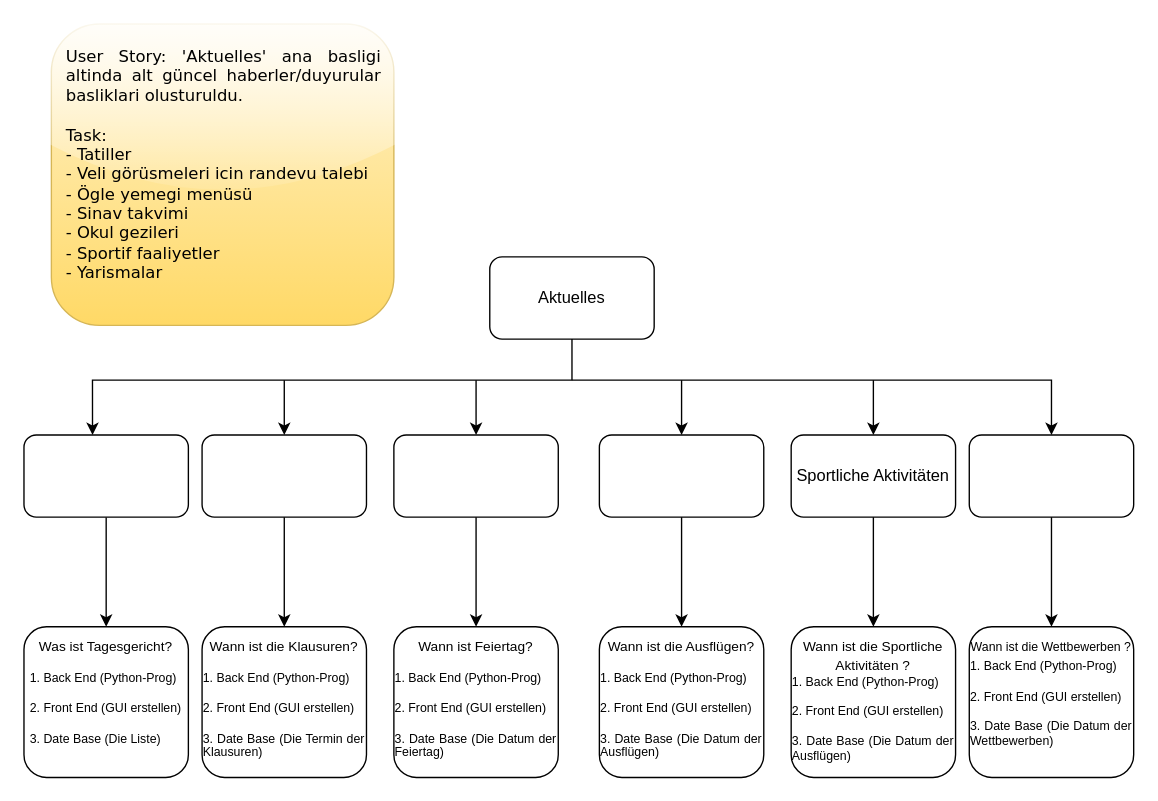
This 1158x801 diagram has some shape labels left out. Here are the shapes that lost their labels. From the top down, the box of each, then its label:
(23, 434, 188, 517): Mittagessen/Menü
(201, 434, 366, 517): Klasur- Klassenarbeitstage
(393, 434, 558, 517): Feiertag
(598, 434, 764, 517): Ausgflüge
(968, 434, 1134, 517): Wettbewerbe
